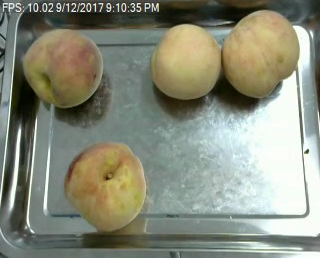Peach: (64, 141, 147, 232), (223, 9, 300, 98), (22, 27, 104, 109), (151, 23, 220, 99)
